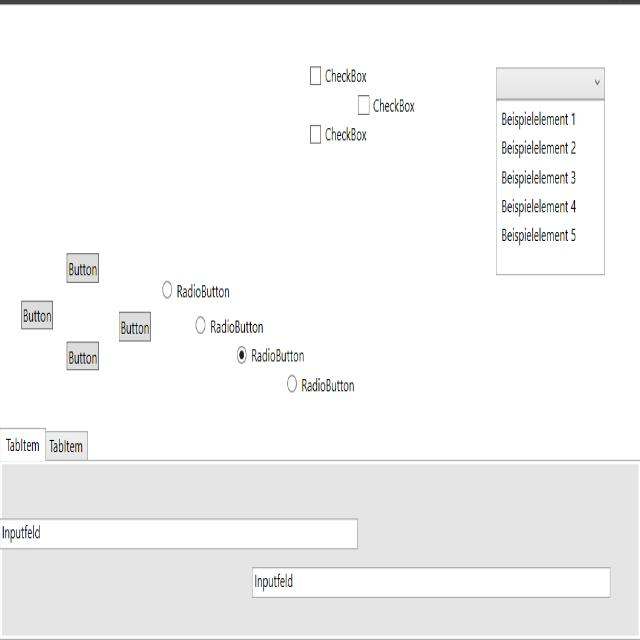button: (66, 247, 102, 288), (117, 306, 152, 345), (66, 336, 101, 373), (20, 295, 55, 330)
checkbox: (356, 92, 371, 118), (309, 61, 323, 88), (309, 121, 323, 147)
dropdownMenu: (495, 62, 606, 278)
input: (250, 564, 612, 602), (0, 513, 359, 551)
label: (300, 376, 355, 395), (252, 346, 306, 365), (210, 318, 265, 335), (177, 283, 230, 299), (325, 67, 368, 85), (374, 96, 416, 114), (324, 126, 368, 143)
menuItem: (500, 134, 579, 160), (500, 164, 579, 187), (500, 106, 579, 128), (499, 226, 578, 248), (500, 196, 579, 216)
radio: (235, 339, 248, 366), (194, 313, 208, 337), (160, 277, 173, 301), (285, 371, 298, 395)
tabControl: (0, 422, 102, 467)
